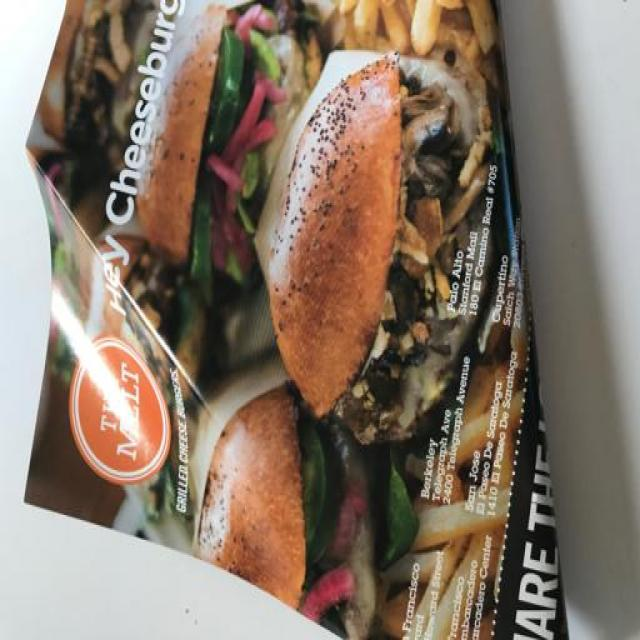paper: (17, 1, 589, 639)
